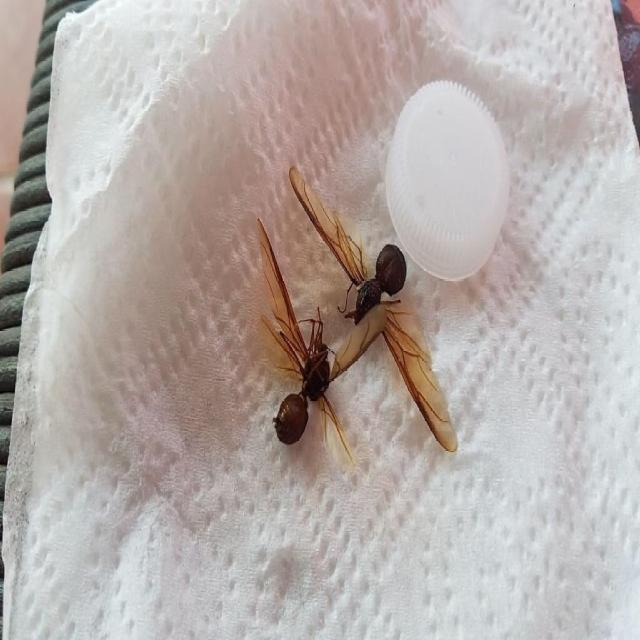Dead-Male-Alate: (289, 166, 457, 453), (256, 217, 356, 475)
